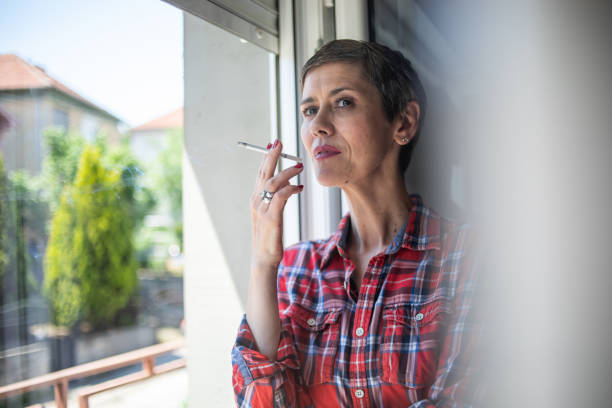cigarette: (238, 140, 305, 164)
